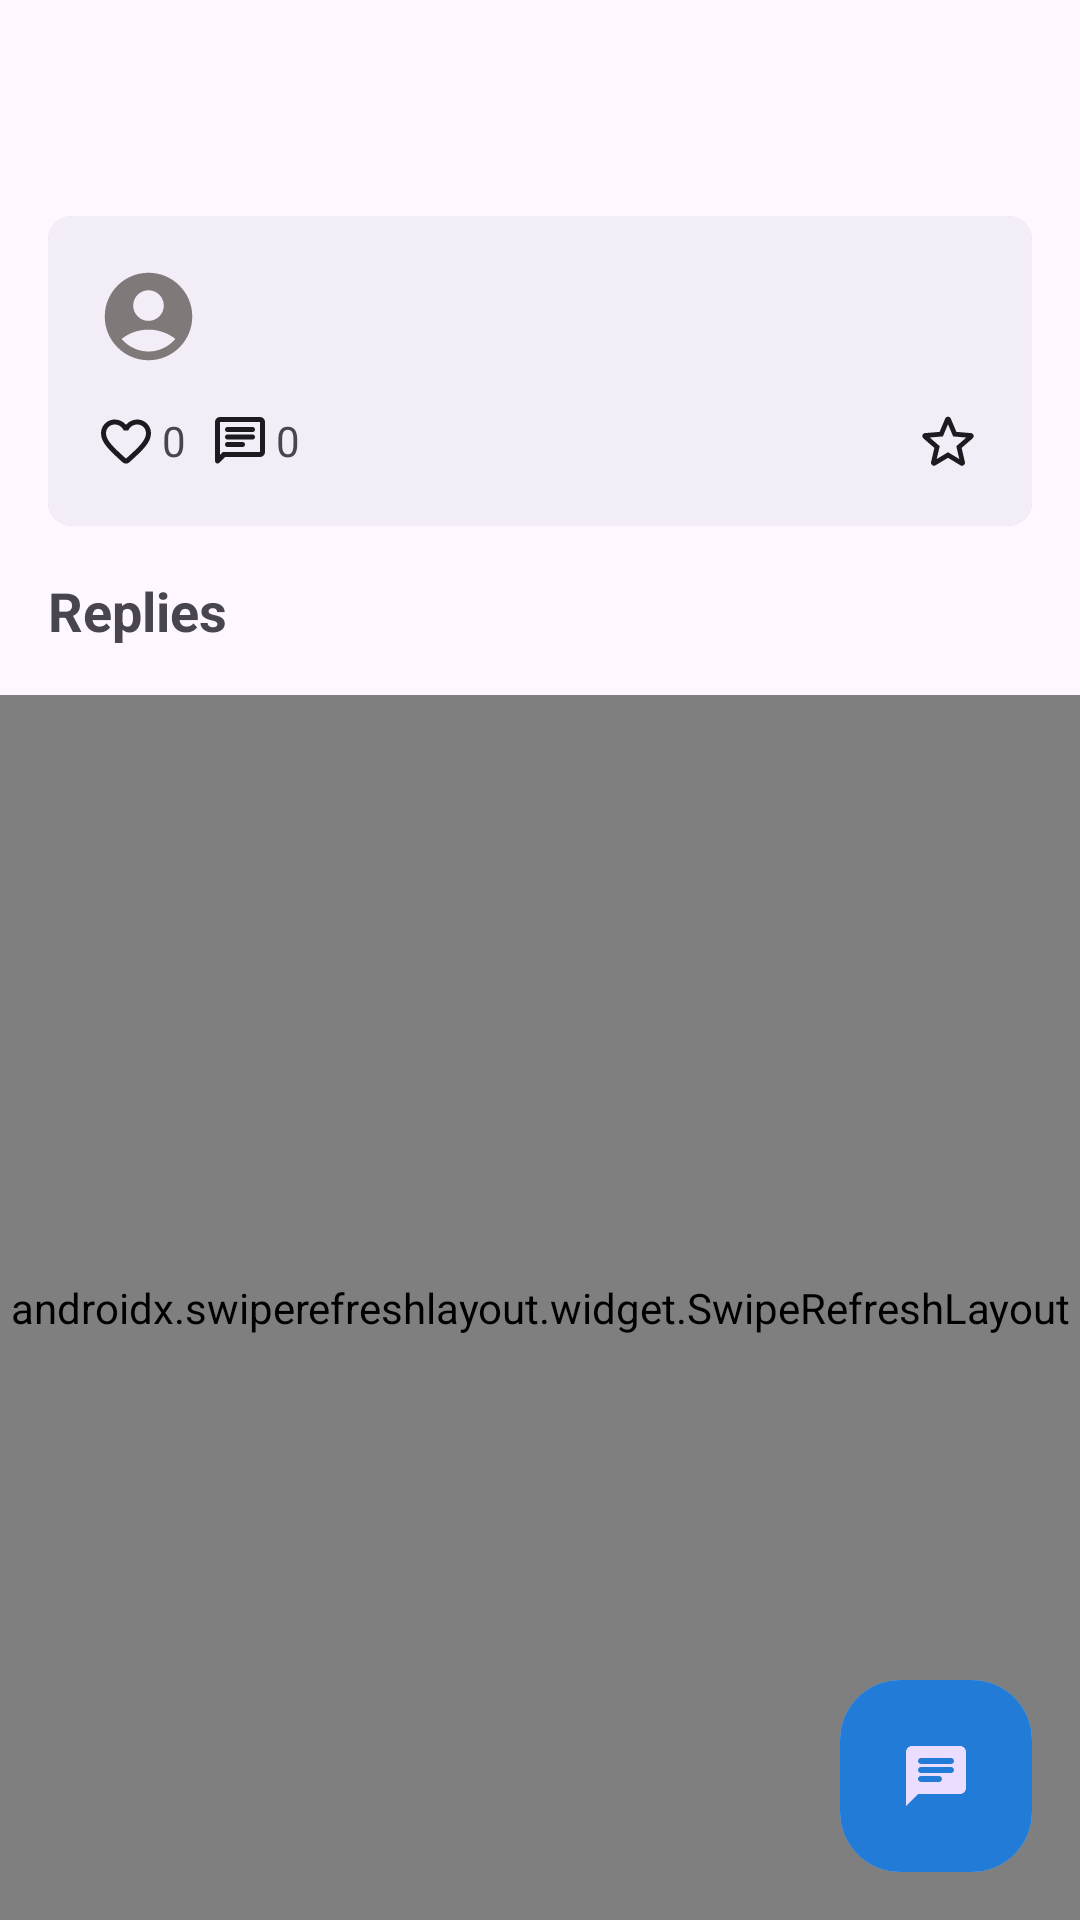

Screen size 1080px x 1920px. Icon name, then its center in pixels as (x,y):
account circle: (148,316)
like: (126,441)
star: (948,441)
